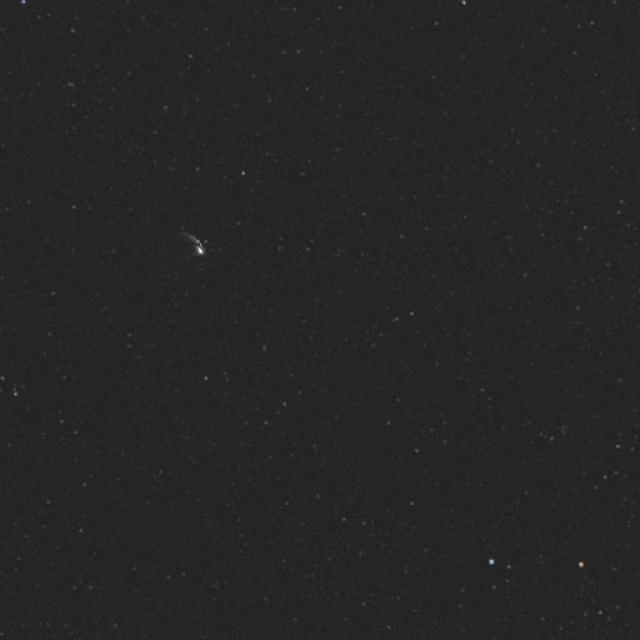debris: (147, 220, 216, 269)
